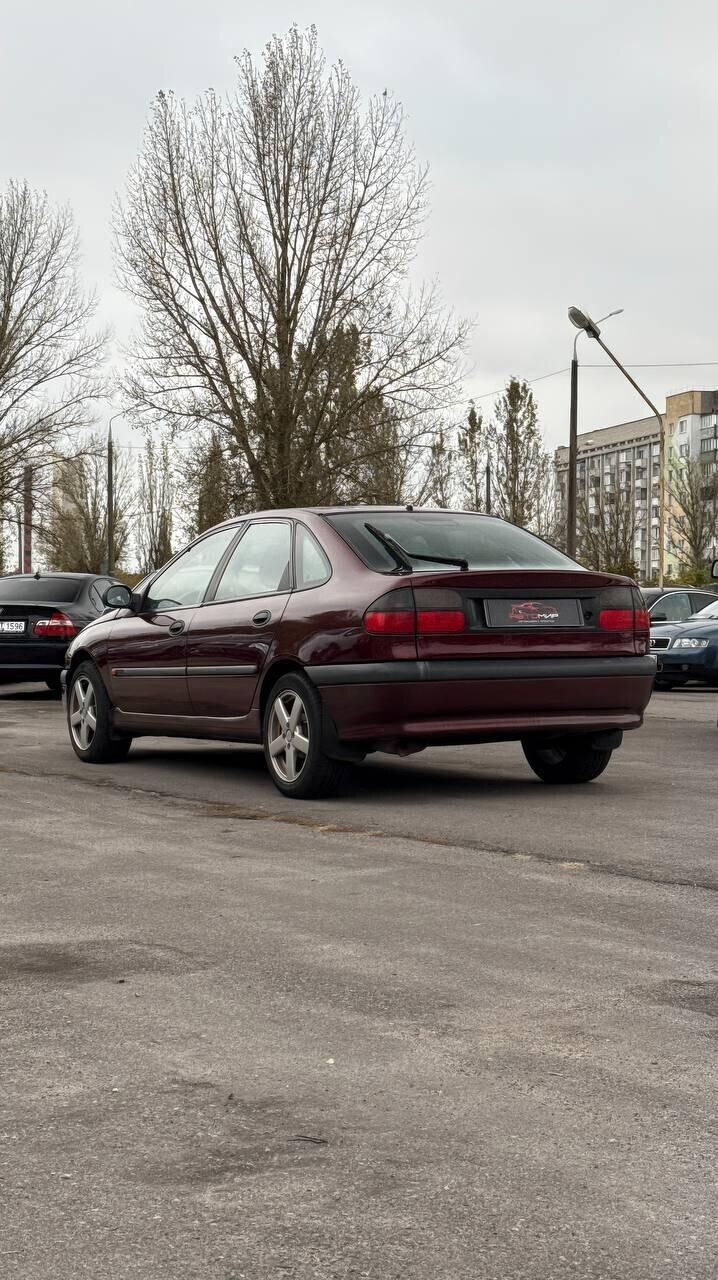Lahuna_1993-1999: (57, 500, 662, 810)
